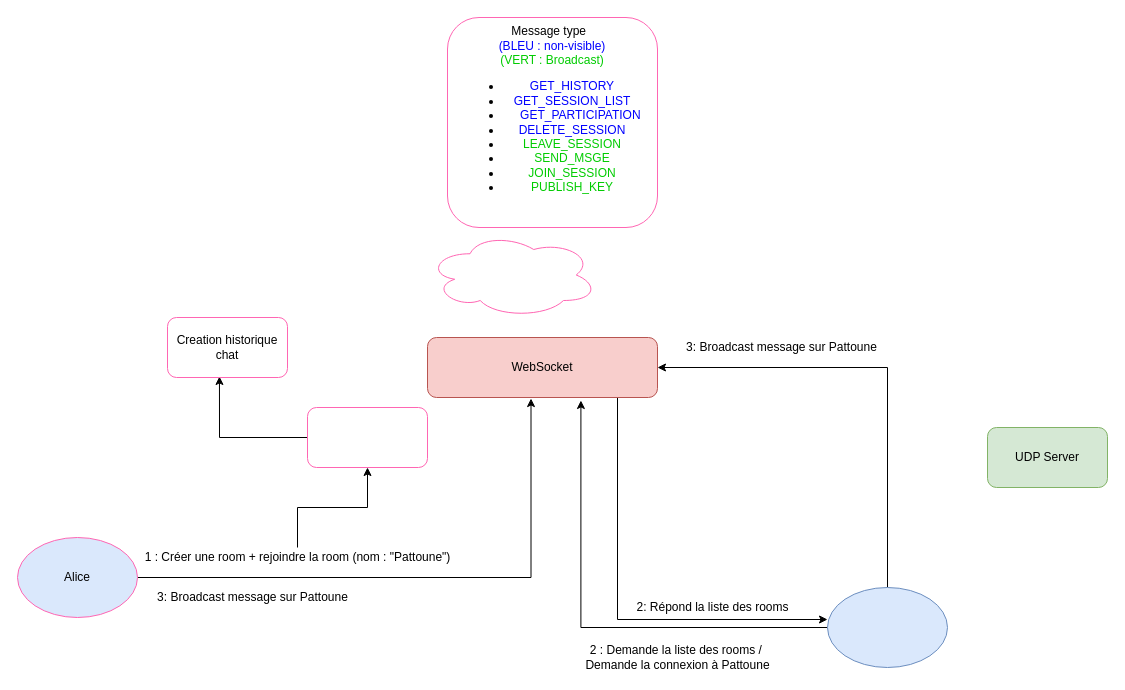
Some shapes in this 1125 by 690 pixel diagram are drawn without their labels. Each missing label, with the box of its shape:
1 :Créé la room + enregistre 1 hôte (Alice): (306, 406, 428, 468)
Bob: (826, 586, 948, 668)
Message : header (commande/"type") + payload: (426, 232, 598, 318)
